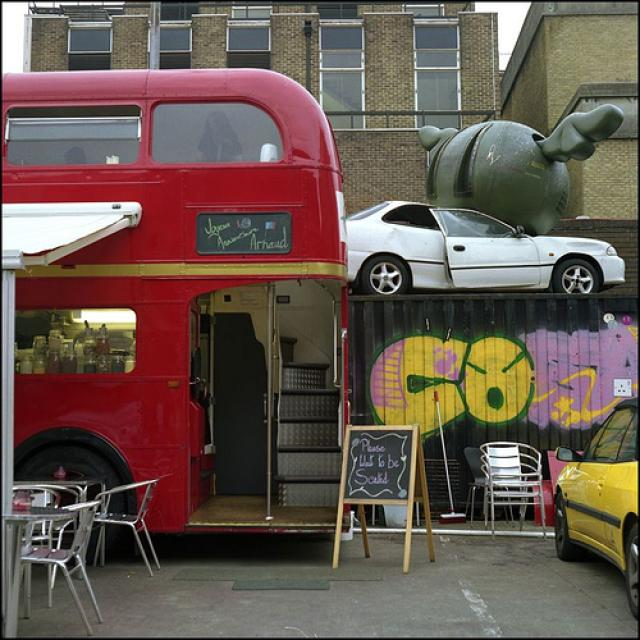Vehicle: (3, 73, 352, 538), (348, 197, 627, 293), (551, 395, 640, 620)
